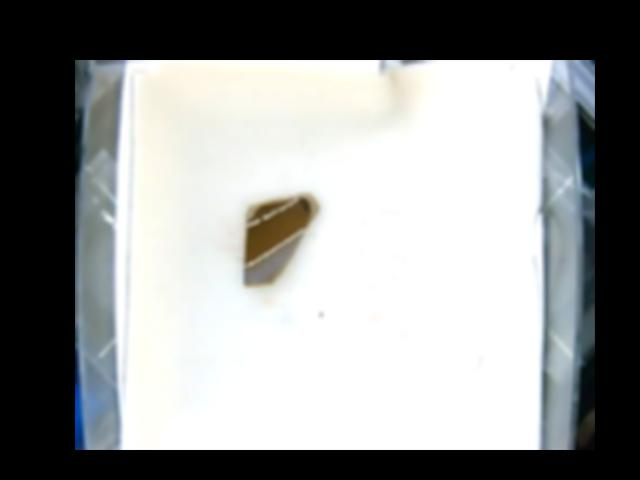China: (244, 190, 321, 287)
